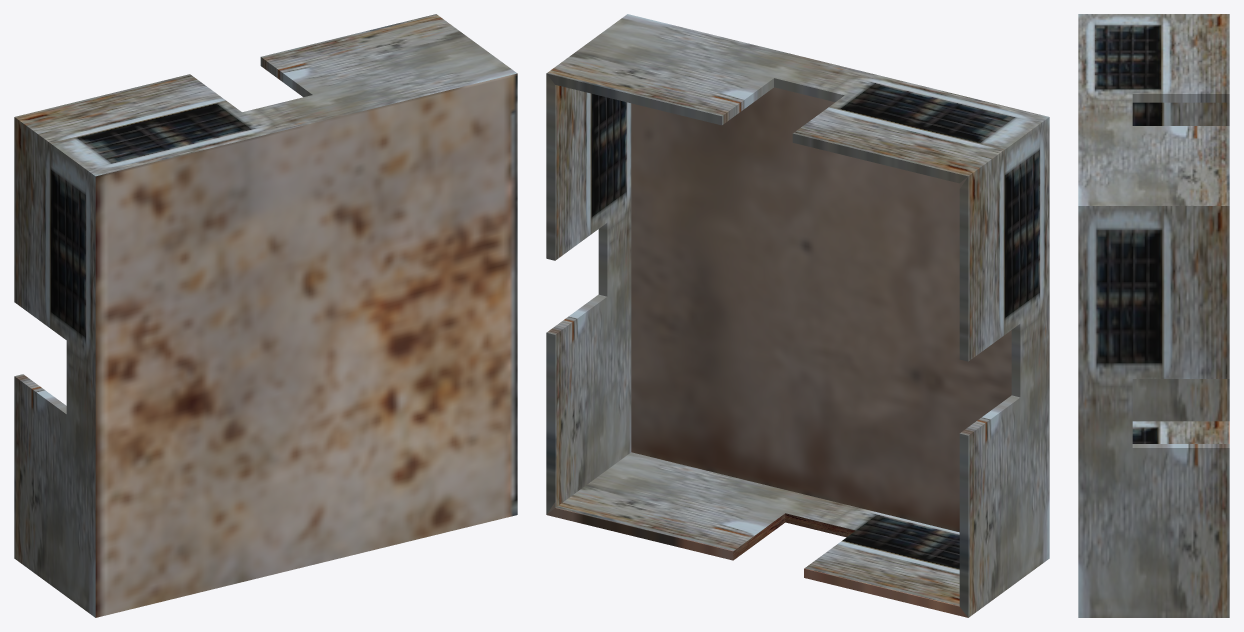
Rendered from 6x6NSEW_sbars_wtf.obj.
The picture shows the model from 3 angles, left to right: view 1: azimuth 30°, elevation 25°; view 2: azimuth 150°, elevation 25°; view 3: azimuth 270°, elevation 25°; orthographic projection. The views are drawn at different scales.
Visible parts, largest first — view 1: group2; view 2: group2; view 3: group2.
Part boxes in pixels (x1,y1,x2,y2): group2: [14, 14, 517, 617]; group2: [546, 14, 1049, 617]; group2: [1078, 14, 1229, 617].
Bounding box in the file's own units: 660 × 660 × 220.
